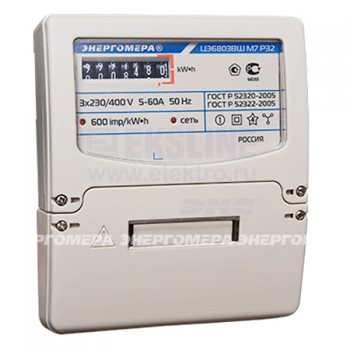counter: (40, 11, 308, 331)
counter_screen: (79, 55, 172, 82)
